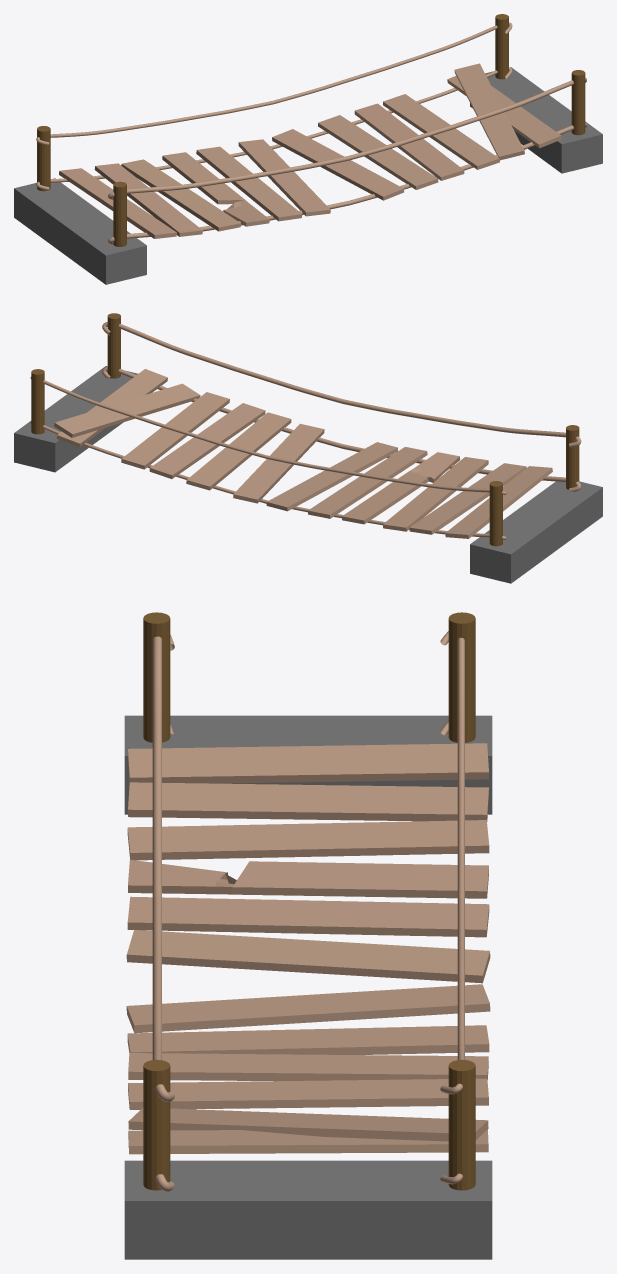
Rendered from bridge.fbx.
3 views of the same model, one above another, from view 1: azimuth 30°, elevation 25°; view 2: azimuth 150°, elevation 25°; view 3: azimuth 270°, elevation 25° (orthographic). The views are drawn at different scales.
Visible parts, largest first — view 1: Cube, Cube.020, Cube.024, Cube.023, Cube.021, Cube.022, BezierCurve.001, Cube.027, Cube.028, Cube.029, Cube.030, Cube.026 (+7 smaller); view 2: Cube, Cube.020, BezierCurve.001, Cube.022, Cube.021, Cube.023, Cube.024, Cube.030, Cube.028, Cube.029, Cube.027, Cube.026 (+7 smaller); view 3: Cube, Cube.025, Cube.026, Cube.027, Cube.029, Cube.030, Cube.028, Cube.024, Cube.023, Cube.021, Cube.022, Cube.020 (+5 smaller).
Part boxes in pixels (box(x1,y1,x2,y2)): Cube: box(14, 67, 602, 284); Cube.020: box(454, 63, 524, 160); Cube.024: box(272, 129, 404, 200); Cube.023: box(318, 115, 438, 189); Cube.021: box(383, 94, 499, 169); Cube.022: box(354, 103, 464, 180); BezierCurve.001: box(108, 78, 586, 199); Cube.027: box(121, 159, 240, 231); Cube.028: box(162, 152, 269, 226); Cube.029: box(196, 146, 302, 221); Cube.030: box(238, 139, 330, 216); Cube.026: box(94, 163, 202, 236); Cube: box(14, 366, 602, 583); Cube.020: box(54, 383, 200, 437); BezierCurve.001: box(102, 322, 581, 447); Cube.022: box(149, 403, 265, 478); Cube.021: box(121, 392, 229, 469); Cube.023: box(186, 412, 291, 490); Cube.024: box(233, 423, 324, 503); Cube.030: box(266, 442, 397, 511); Cube.028: box(342, 452, 460, 524); Cube.029: box(307, 447, 427, 518); Cube.027: box(383, 457, 488, 531); Cube.026: box(409, 463, 526, 534); Cube: box(124, 715, 492, 1259); Cube.025: box(128, 743, 488, 783); Cube.026: box(128, 782, 488, 821); Cube.027: box(127, 820, 489, 860); Cube.029: box(127, 896, 489, 937); Cube.030: box(126, 929, 490, 983); Cube.028: box(128, 859, 488, 898); Cube.024: box(126, 984, 490, 1033); Cube.023: box(127, 1025, 489, 1054); Cube.021: box(128, 1078, 488, 1109); Cube.022: box(128, 1053, 488, 1081); Cube.020: box(128, 1108, 488, 1141).
Size of the model in its own units: 116 by 19.87 by 37.19.
